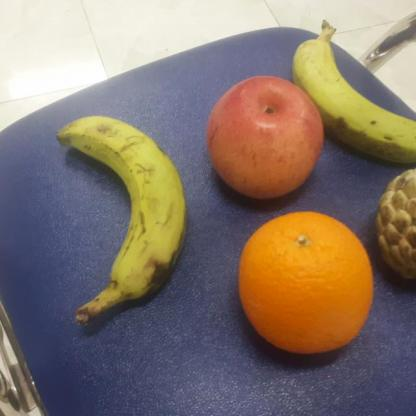annona: (370, 162, 416, 282)
apple: (204, 75, 326, 201)
banana: (55, 107, 187, 301), (290, 35, 416, 162)
orange: (237, 208, 375, 356)
